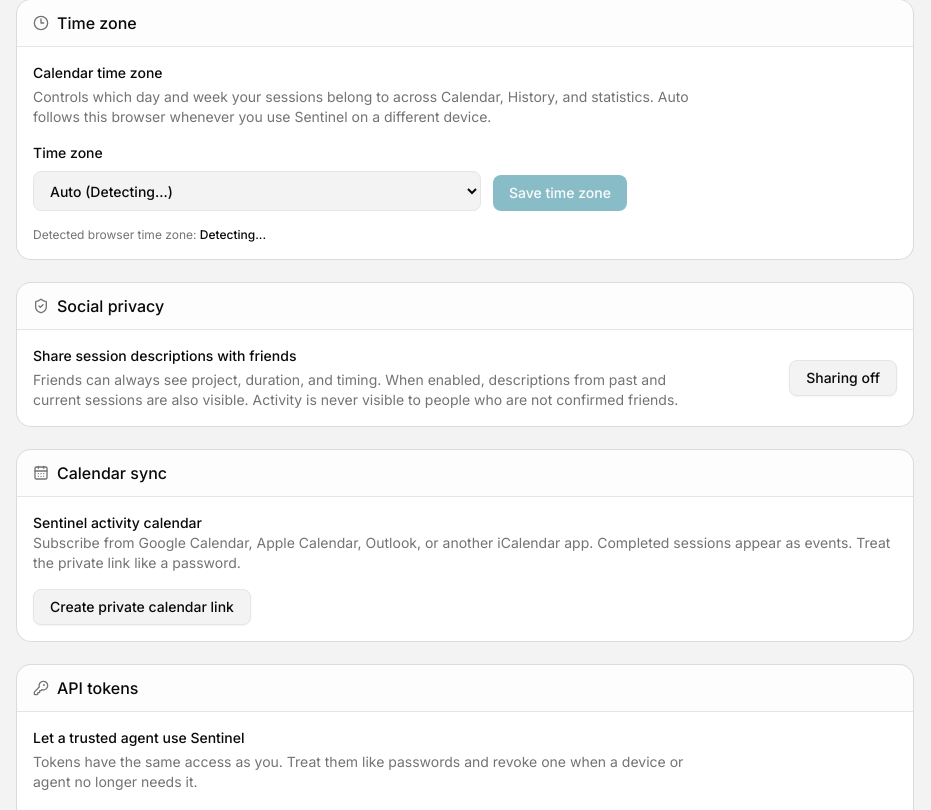
Test: Settings time zone › defaults to Auto, shows the detected zone, and saves a fixed override
The width and height of the screenshot is (931, 810).
Expected: the text "Detected browser time zone: Detecting..." is shown, [33, 227, 266, 242]
Select "UTC+09:00 · Asia/Tokyo" in the dropdown labelled "Time zone" at (257, 191), box [33, 171, 481, 211]
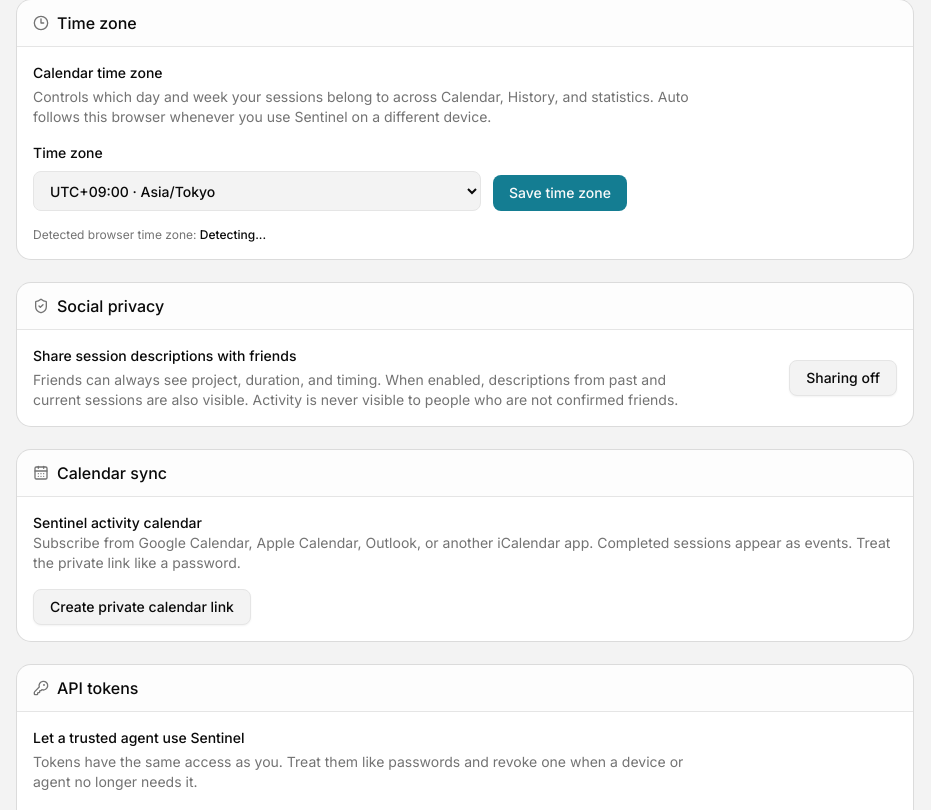
Click the button "Save time zone" at (560, 193), box [493, 175, 627, 211]
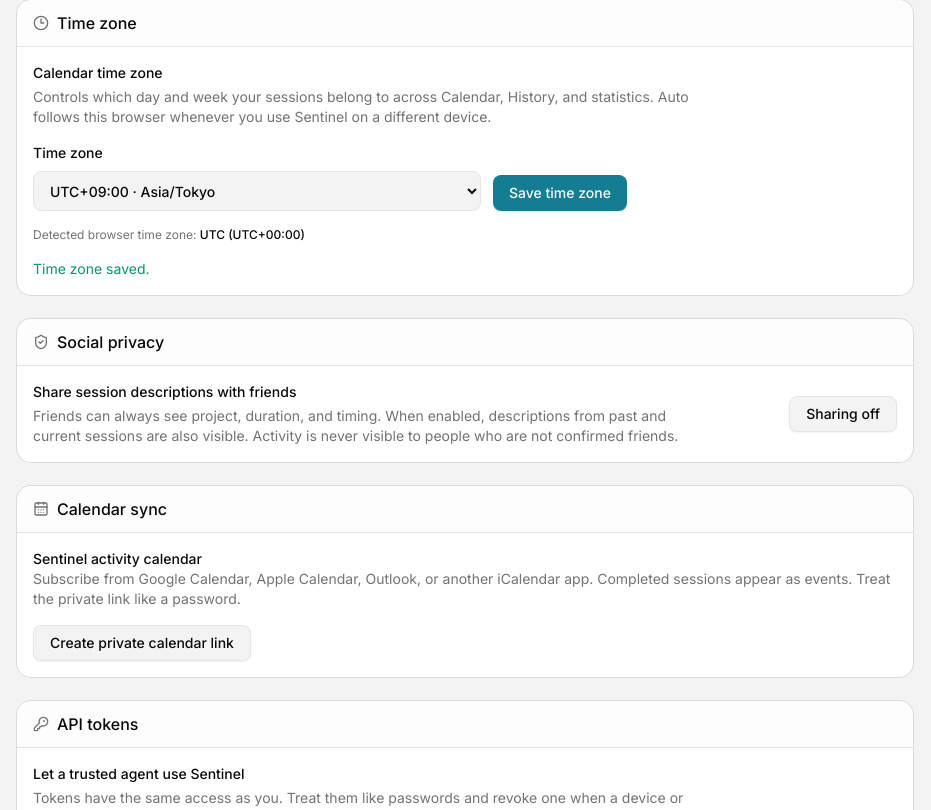
Now the message reads "Time zone saved.", box [33, 260, 150, 277]
